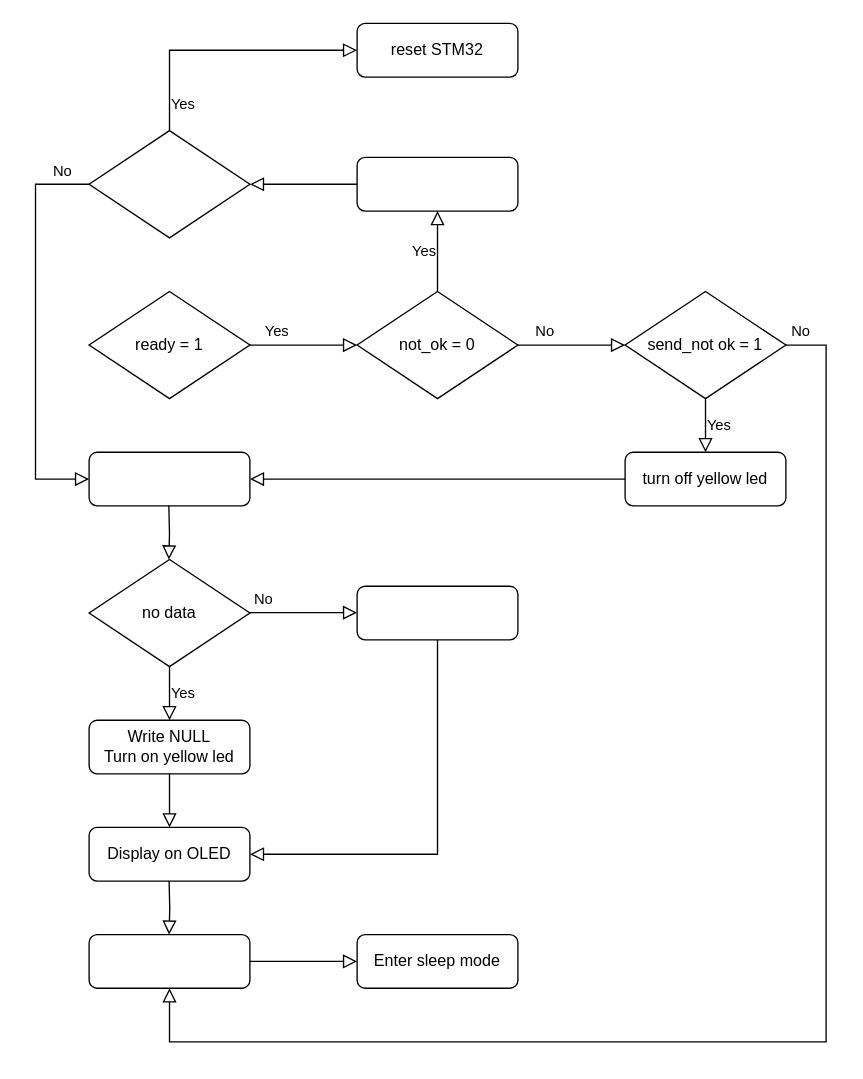
The diagram is 863 pixels wide and 1079 high, and some of its shapes have lost their labels. Each missing label, with the centre of its shape:
error += 1: (x=437, y=183)
error = 3: (x=169, y=183)
Read sensors data: (x=169, y=478)
Tx transmit: (x=169, y=960)
Write data Turn off yellow led: (x=437, y=612)
